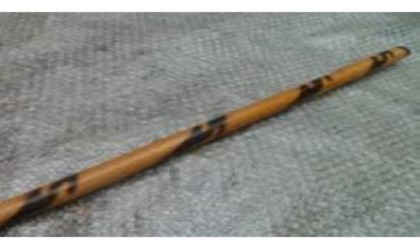baston_e: (14, 44, 397, 220)
baston_v: (390, 38, 415, 63)
